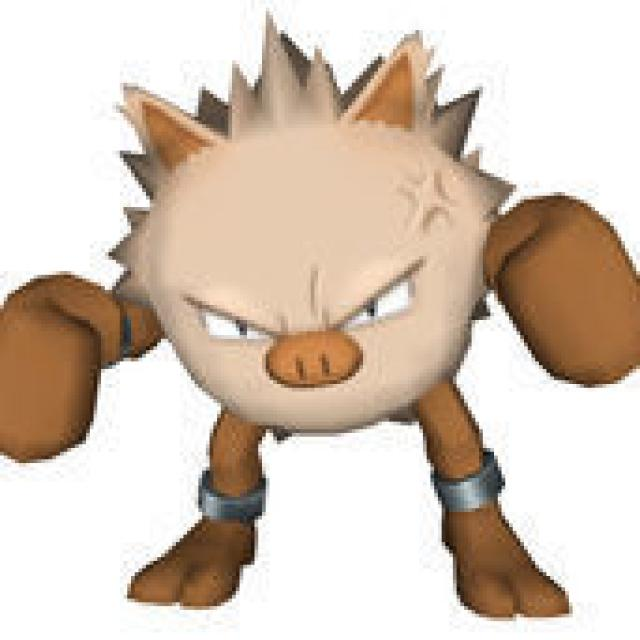Primeape: (72, 51, 578, 620)
